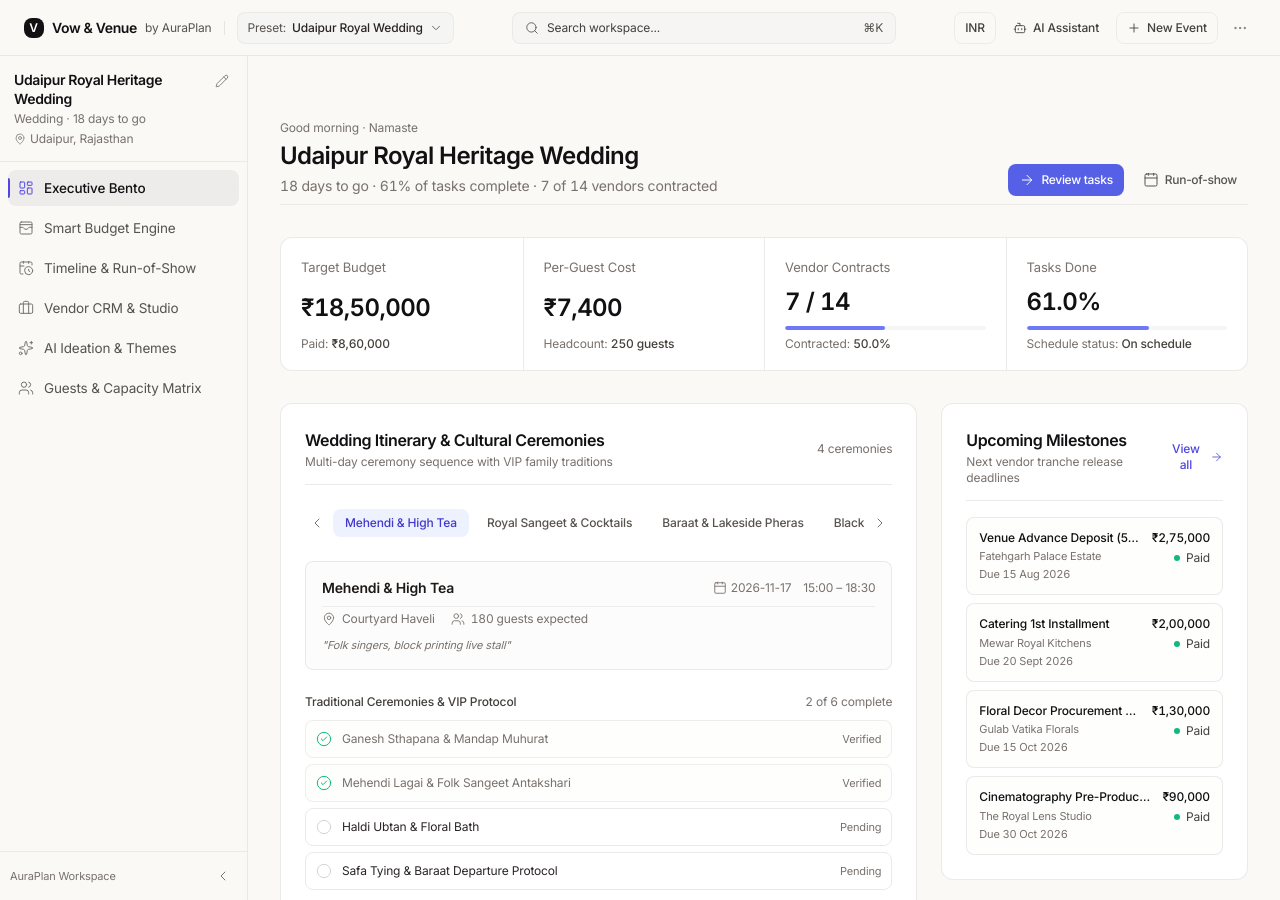
it: CommandPalette Keyboard Navigation and Execution › executes item action and closes palette when an option is clicked directly
The width and height of the screenshot is (1280, 900).
Press k
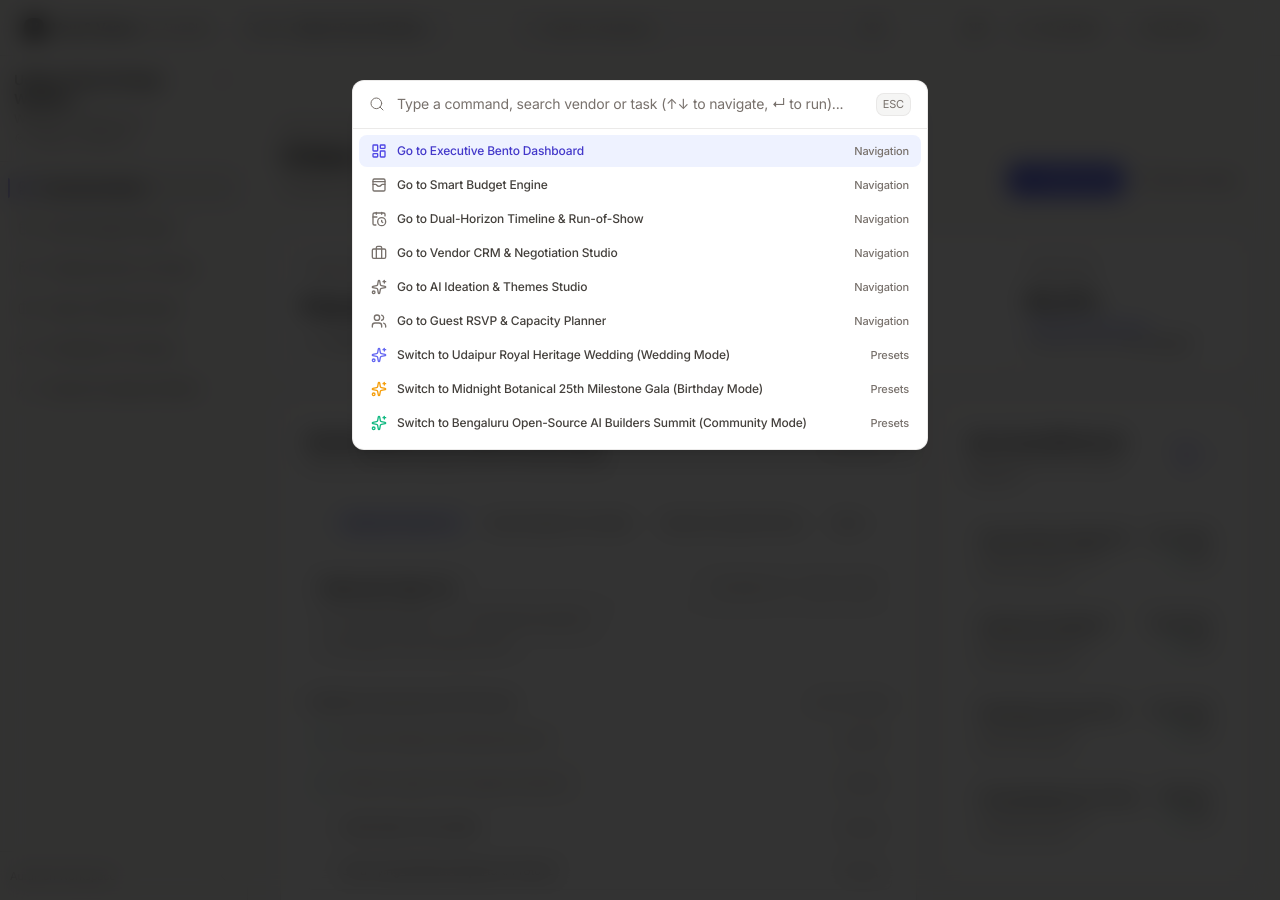
Expected: the dialog named "Command Palette" is shown
Replace the text in the field with placeholder "Type a command" with "Smart Budget Engine" at [630, 104], box x1=397 y1=94 x2=864 y2=114
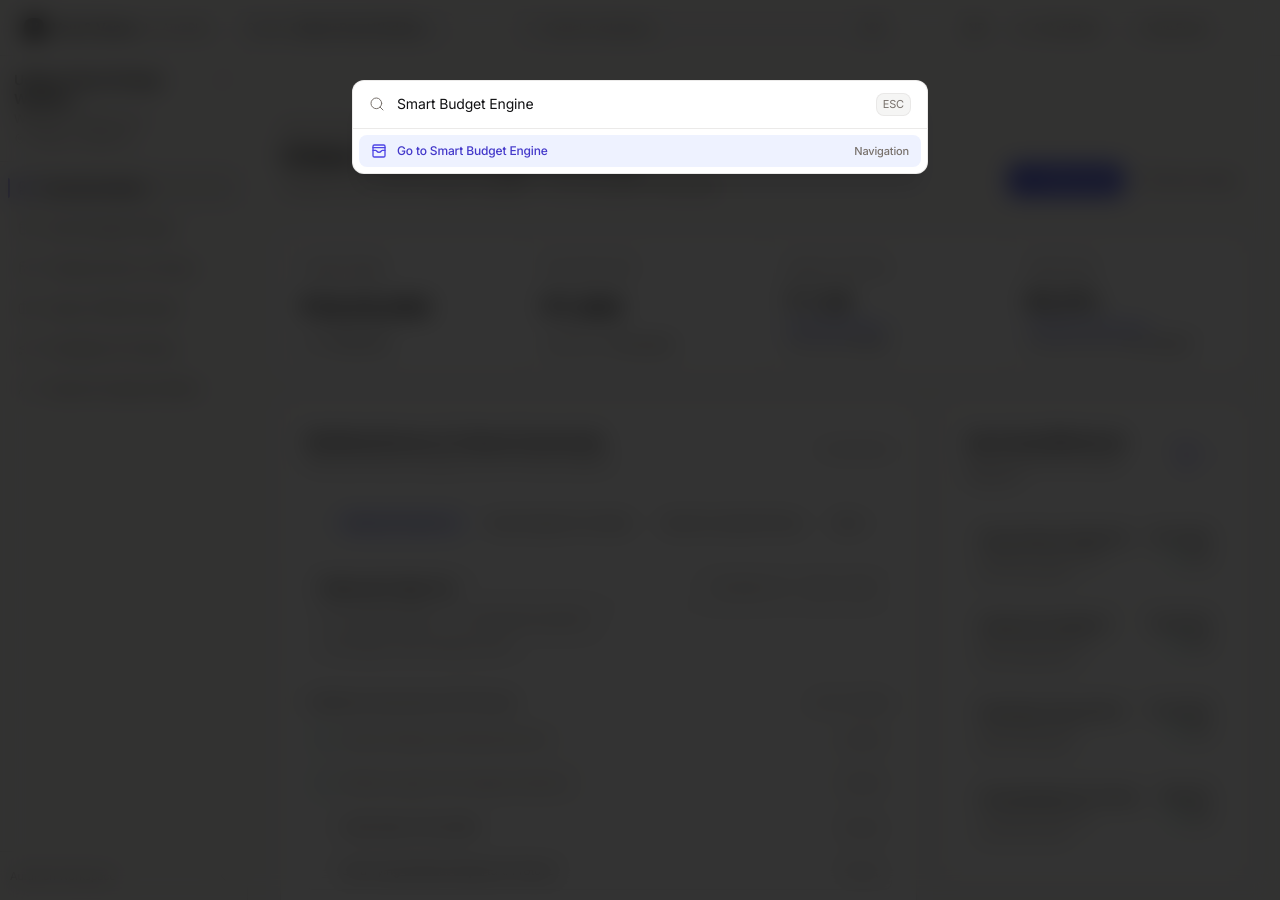
Click the option "Go to Smart Budget Engine Navigation" at [472, 150], box x1=359 y1=134 x2=921 y2=166
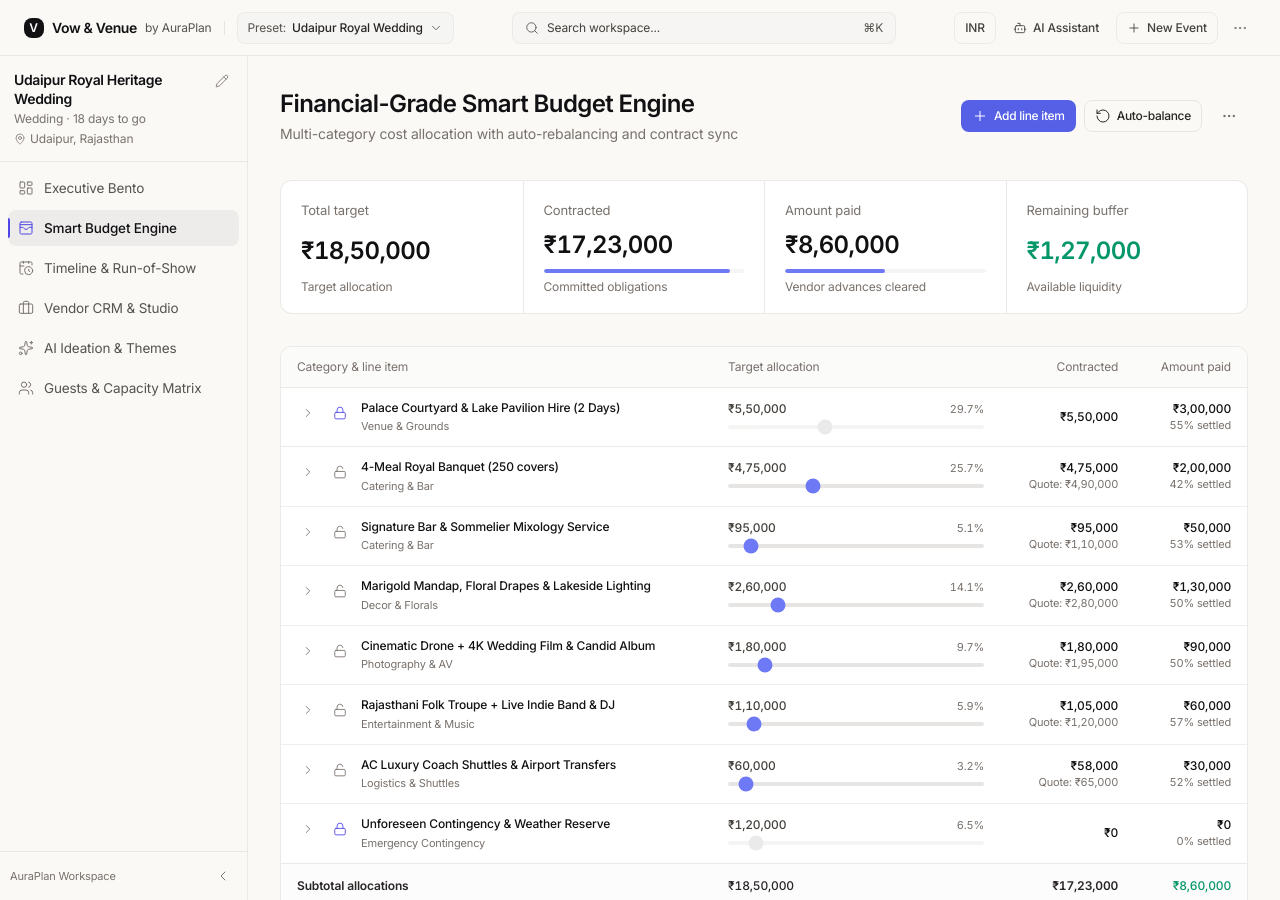
Expected: the heading "Financial-Grade Smart Budget Engine" is shown, x1=280 y1=88 x2=738 y2=120
